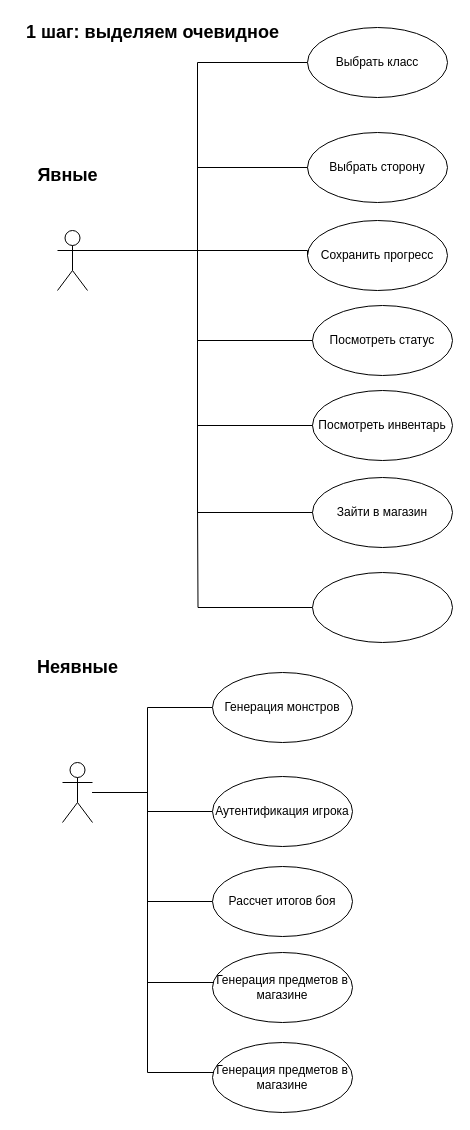
The diagram is 470 pixels wide and 1130 high, and some of its shapes have lost their labels. Here are the shapes that lost their labels. From the top down, the centre of each, then its label:
At point 72,260: "Игрок".
At point 382,607: "Выполнить квест".
At point 77,792: "Система".
